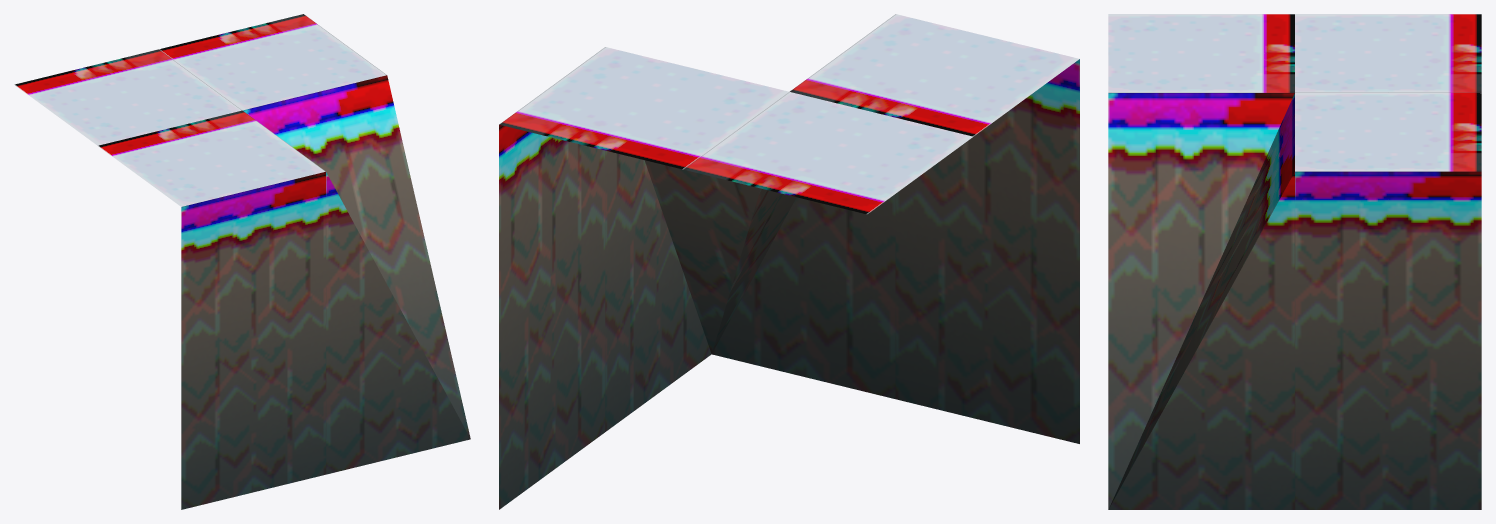
File: arch_winter_wall_cornerInCap_AB.FBX
3 views of the same model, side by side, from view 1: azimuth 30°, elevation 25°; view 2: azimuth 150°, elevation 25°; view 3: azimuth 270°, elevation 25° (orthographic). The views are drawn at different scales.
Parts seen in each view (by area): view 1: arch_winter_wall_cornerInCap_AB; view 2: arch_winter_wall_cornerInCap_AB; view 3: arch_winter_wall_cornerInCap_AB.
Part boxes in pixels (x1,y1,x2,y2): arch_winter_wall_cornerInCap_AB: [14, 14, 470, 509]; arch_winter_wall_cornerInCap_AB: [499, 14, 1079, 509]; arch_winter_wall_cornerInCap_AB: [1108, 14, 1481, 509].
Bounding box in the file's own units: 4 × 4 × 4.
1 material, 1 textured.
